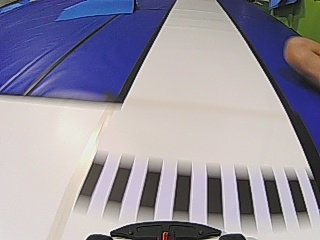CrossWalk: (78, 157, 311, 214)
